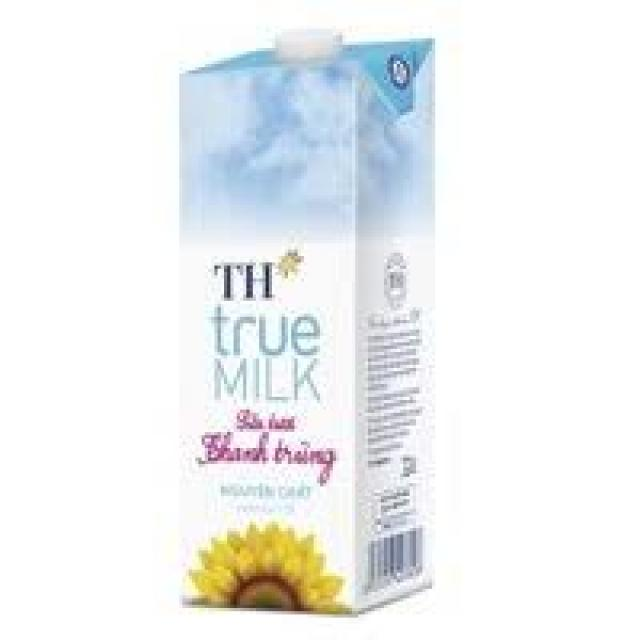non_white_jug: (152, 19, 443, 621)
